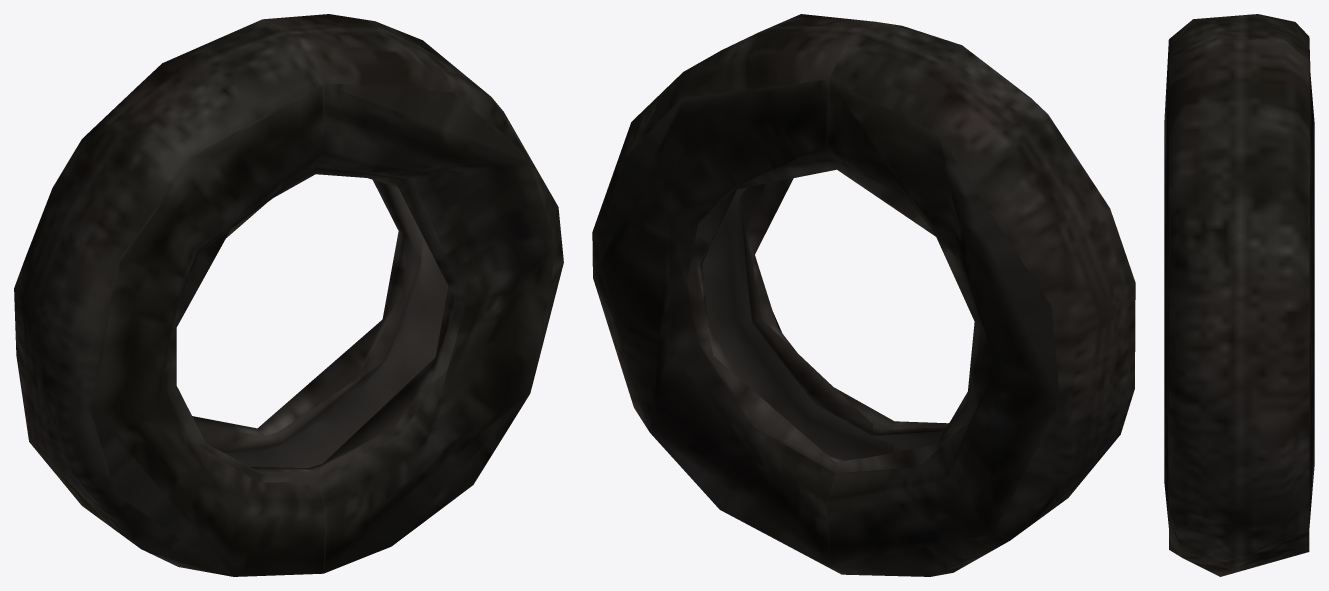
File: old_tyre_lod2.glb
The picture shows the model from 3 angles, left to right: view 1: azimuth 30°, elevation 25°; view 2: azimuth 150°, elevation 25°; view 3: azimuth 270°, elevation 25°; orthographic projection. The views are drawn at different scales.
Visible parts, largest first — view 1: old_tyre; view 2: old_tyre; view 3: old_tyre.
Boxes of the visible parts, <box> form: old_tyre: <box>14,14,563,576</box>; old_tyre: <box>592,14,1135,576</box>; old_tyre: <box>1164,14,1314,576</box>.
Size of the model in its own units: 0.5873 by 0.5945 by 0.159.
Materials: 1 (1 with a texture image).
